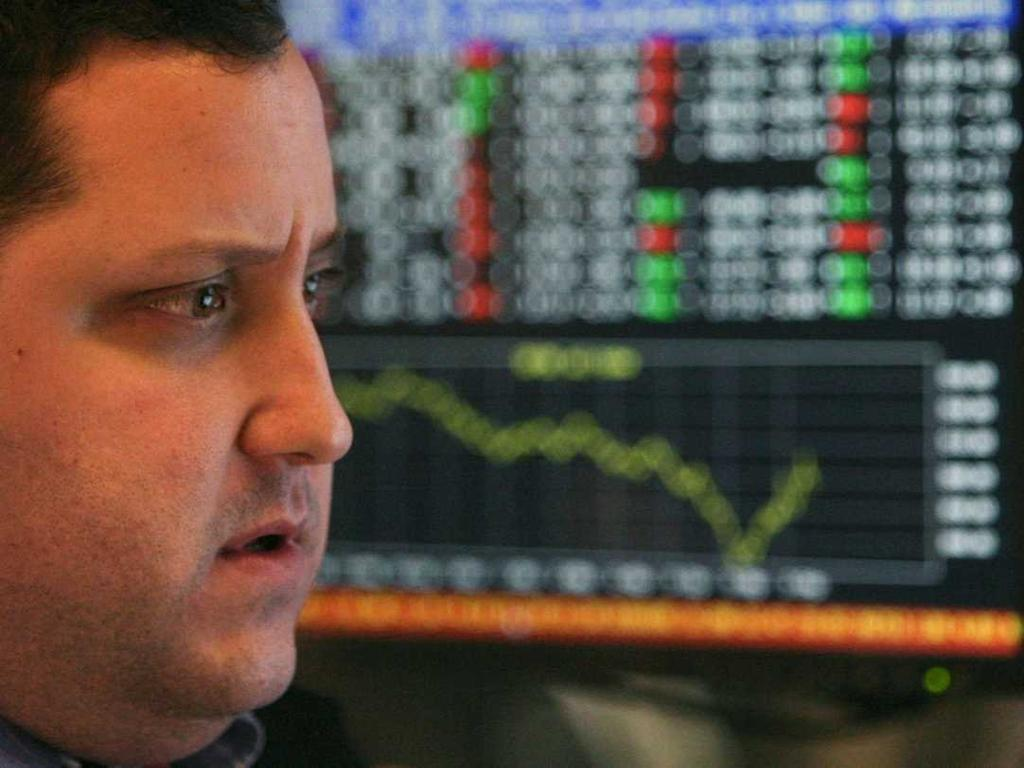face: (1, 53, 355, 711)
